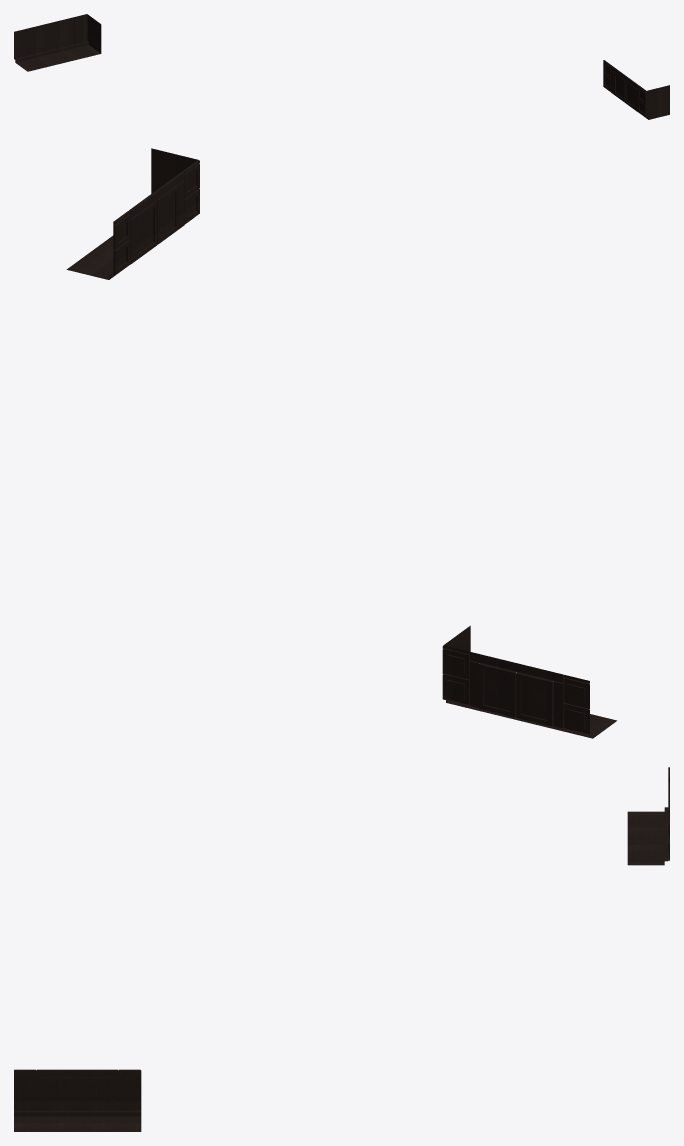
The model's file is Cabinets_Epresso_.glb.
3 views of the same model, one above another, from view 1: azimuth 30°, elevation 25°; view 2: azimuth 150°, elevation 25°; view 3: azimuth 270°, elevation 25° (orthographic). The views are drawn at different scales.
Parts seen in each view (by area): view 1: Cabinet_espresso; view 2: Cabinet_espresso; view 3: Cabinet_espresso.
Part boxes in pixels (x1,y1,x2,y2): Cabinet_espresso: [14, 14, 669, 119]; Cabinet_espresso: [66, 148, 616, 738]; Cabinet_espresso: [14, 767, 669, 1131].
Bounding box in the file's own units: 17 × 1.1 × 14.71.
Materials: 1 (1 with a texture image).
